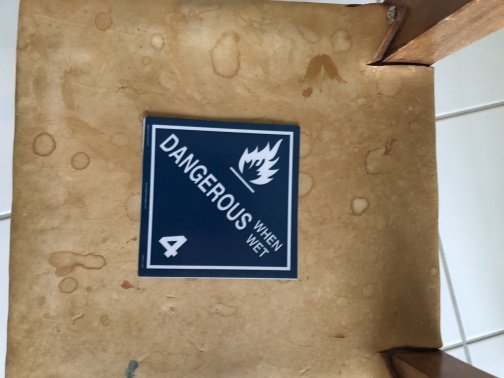DangerousWhenWet: (144, 119, 297, 277)
